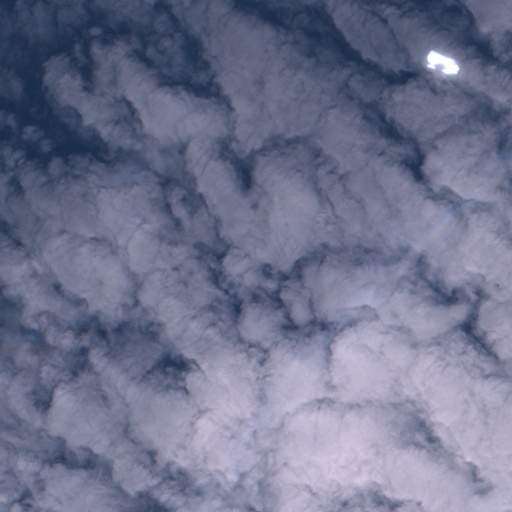Iceberg: (426, 50, 459, 74)
